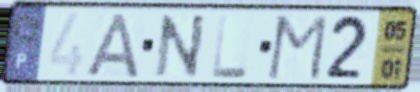2: (321, 11, 374, 86)
4: (46, 10, 87, 79)
A: (83, 11, 143, 80)
L: (210, 12, 250, 81)
M: (264, 13, 331, 83)
N: (153, 12, 209, 80)
